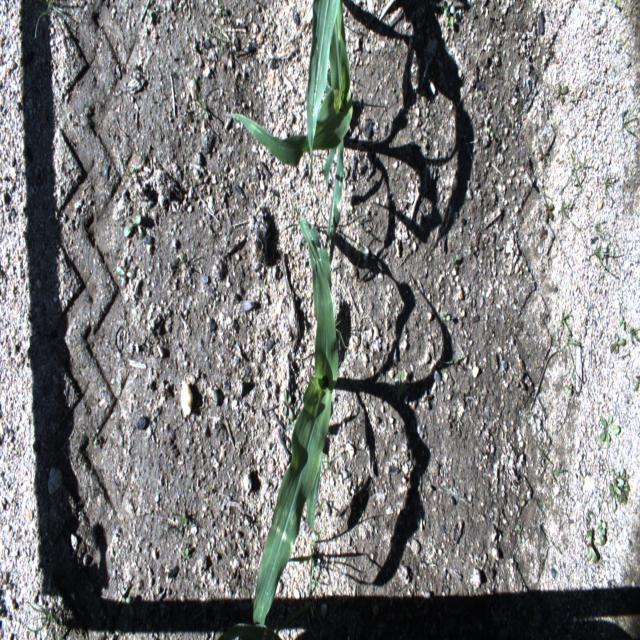crop: (225, 2, 355, 275), (254, 217, 339, 626)
weed: (559, 142, 594, 202), (21, 598, 64, 639), (309, 523, 332, 596), (561, 310, 583, 386), (184, 71, 211, 124), (35, 1, 65, 39), (316, 446, 342, 483), (592, 240, 622, 271), (560, 190, 581, 230), (598, 414, 620, 447), (164, 508, 188, 536), (622, 102, 638, 143), (587, 528, 605, 564), (332, 320, 350, 354), (124, 215, 143, 240), (116, 266, 136, 289), (282, 387, 295, 422), (602, 170, 616, 202), (608, 484, 622, 512), (610, 334, 627, 355), (555, 82, 570, 105), (612, 467, 625, 491), (594, 215, 605, 241), (443, 5, 455, 28), (544, 202, 554, 223), (597, 520, 607, 538)
